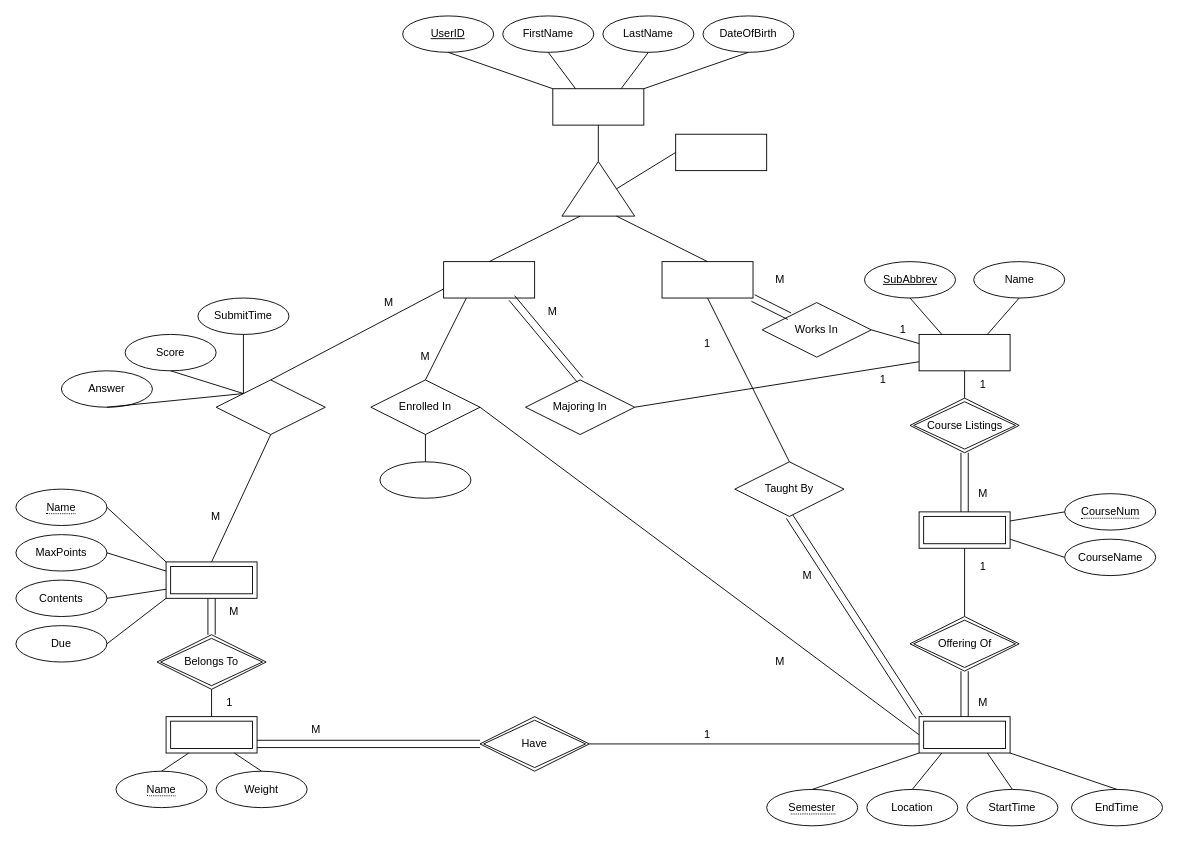
Some shapes in this 1178 by 842 pixel diagram are drawn without their labels. The shapes that lost their labels are listed below. From the top down, each one's centre as x and y in pixels, then its label:
point (598, 106): Users
point (721, 152): Administrator
point (489, 279): Student
point (707, 279): Professor
point (964, 352): Departments
point (270, 407): Submissions
point (425, 479): Grade
point (964, 529): Courses
point (211, 579): Assignments
point (211, 734): AssignCatagory
point (964, 734): Classes
